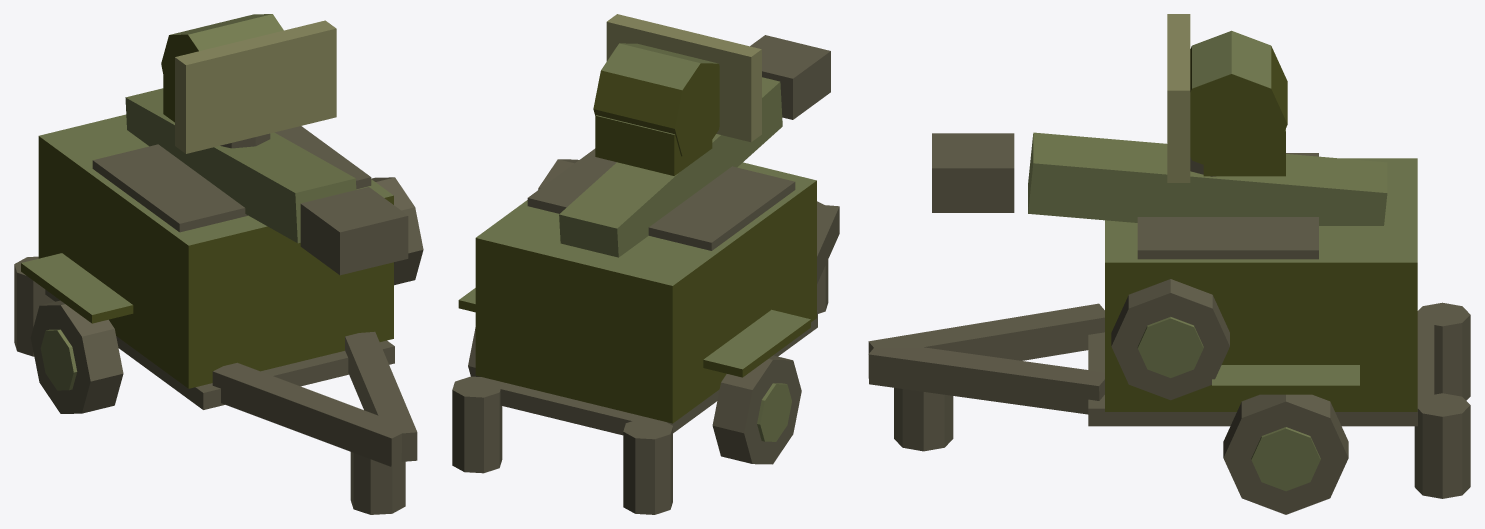
The model's file is SM_Radar_v3_Plegado_LOD1.fbx.
3 views of the same model, side by side, from view 1: azimuth 30°, elevation 25°; view 2: azimuth 150°, elevation 25°; view 3: azimuth 270°, elevation 25° (orthographic). The views are drawn at different scales.
Visible parts, largest first — view 1: SM_bloques.radar_v3_LOD1; view 2: SM_bloques.radar_v3_LOD1; view 3: SM_bloques.radar_v3_LOD1.
Part boxes in pixels (<box>): SM_bloques.radar_v3_LOD1: <box>14,14,423,514</box>; SM_bloques.radar_v3_LOD1: <box>452,14,839,514</box>; SM_bloques.radar_v3_LOD1: <box>868,14,1470,514</box>.
Bounding box in the file's own units: 2.16 × 2.61 × 3.65.
